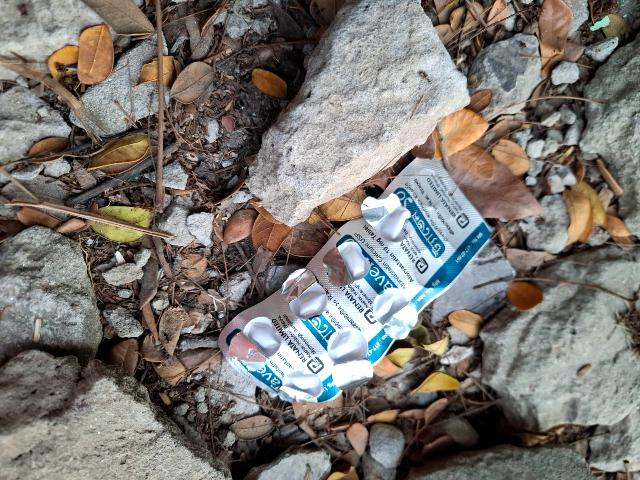medicine: (202, 148, 533, 461)
